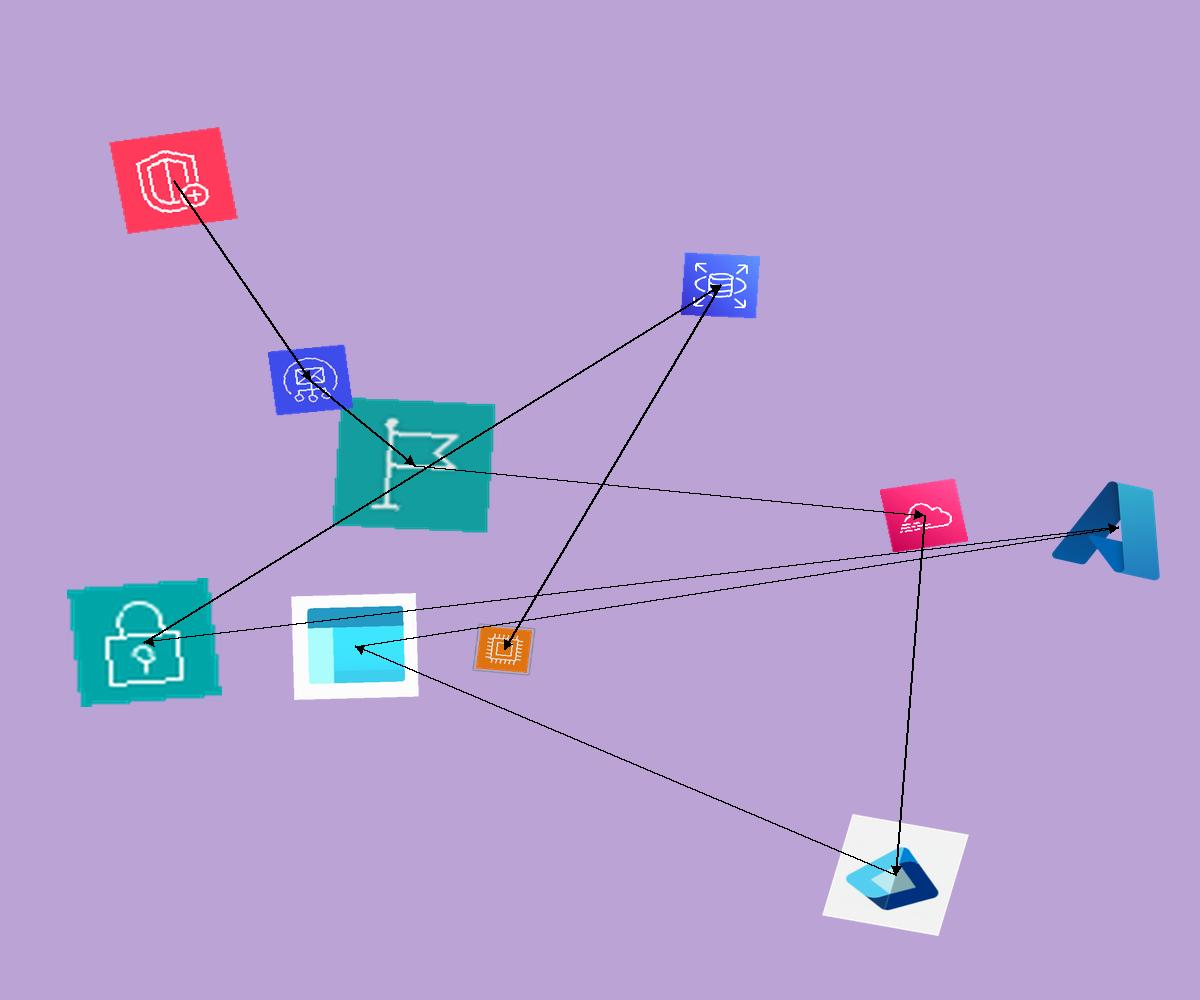AWS-Category_Compute: (472, 623, 536, 676)
AWS-CloudTrail: (879, 478, 969, 553)
AWS-Private-subnet: (67, 578, 222, 707)
AWS-RDS: (680, 252, 761, 319)
AWS-Region: (331, 396, 497, 534)
AWS-Shield: (108, 126, 239, 235)
AWS-Simple-Email-Service: (267, 344, 354, 416)
Azure_management-portal: (291, 593, 419, 700)
Azure_microsoft_entra: (822, 814, 969, 936)
Azure_services: (1044, 466, 1192, 589)
